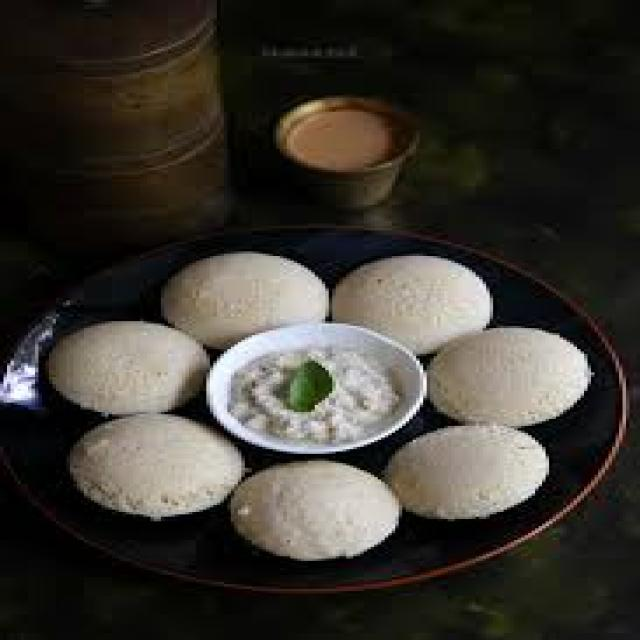Wet Waste: (210, 333, 413, 444), (412, 324, 602, 428), (150, 246, 326, 354), (60, 412, 242, 514), (325, 249, 493, 358), (374, 424, 567, 516), (214, 459, 396, 556), (42, 314, 210, 412)
